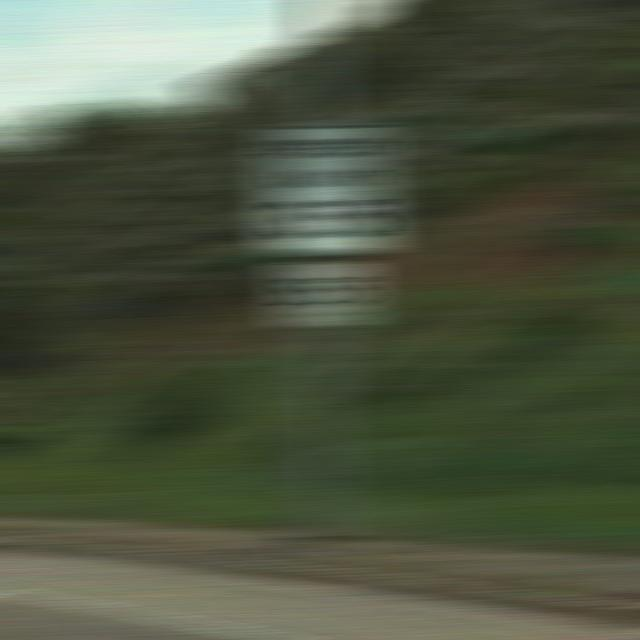speedLimit35: (262, 115, 393, 253)
